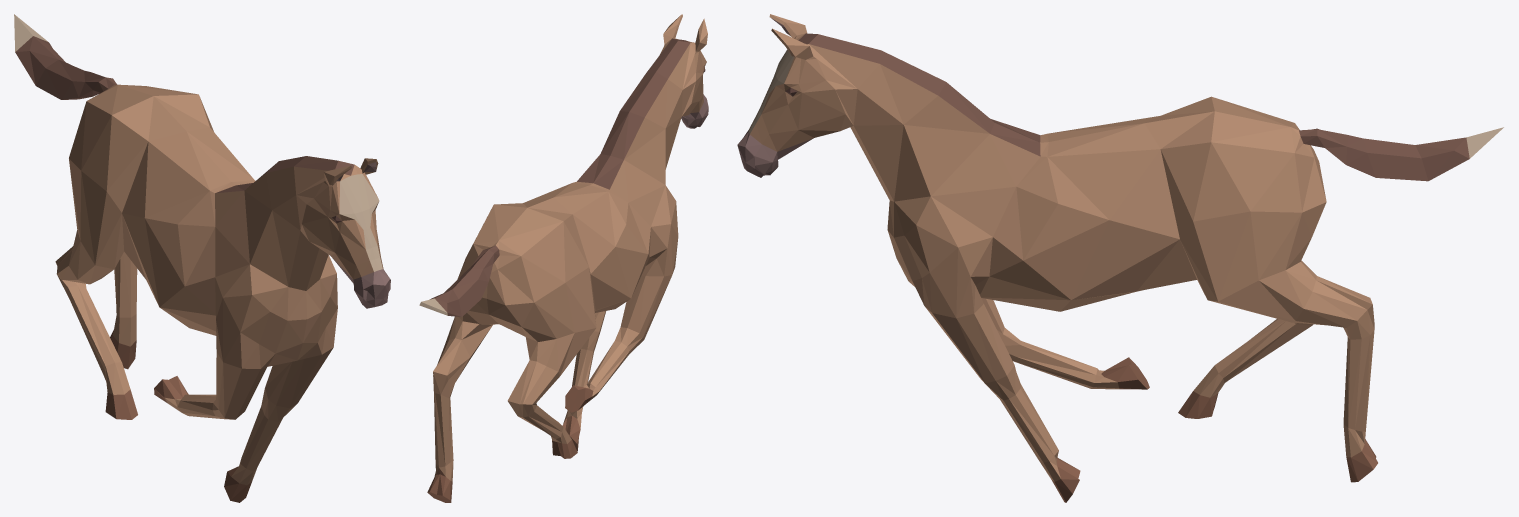
Rendered from Horse.glb.
3 renders of one model, left to right at view 1: azimuth 30°, elevation 25°; view 2: azimuth 150°, elevation 25°; view 3: azimuth 270°, elevation 25°, orthographic. The views are drawn at different scales.
Visible parts, largest first — view 1: mesh_0; view 2: mesh_0; view 3: mesh_0.
Part boxes in pixels (box(x1,y1,x2,y2)): mesh_0: box(14, 14, 390, 502); mesh_0: box(419, 14, 708, 502); mesh_0: box(737, 14, 1503, 502).
Size of the model in its own units: 66.15 by 194 by 285.
